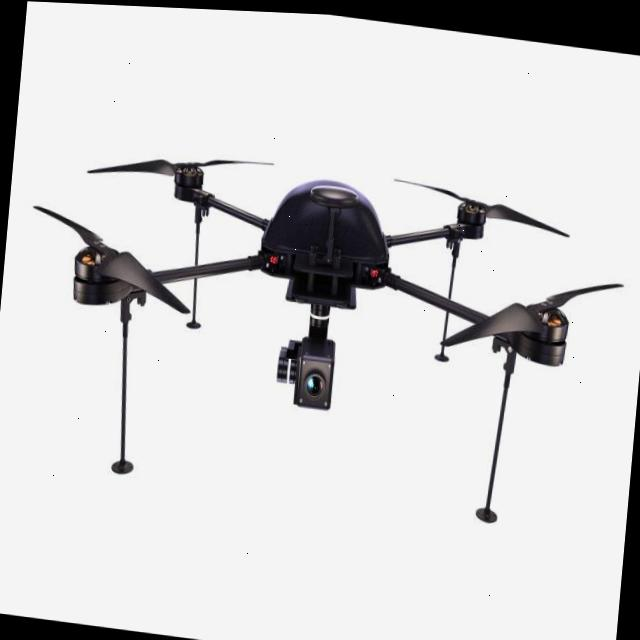drone: (20, 112, 640, 480)
